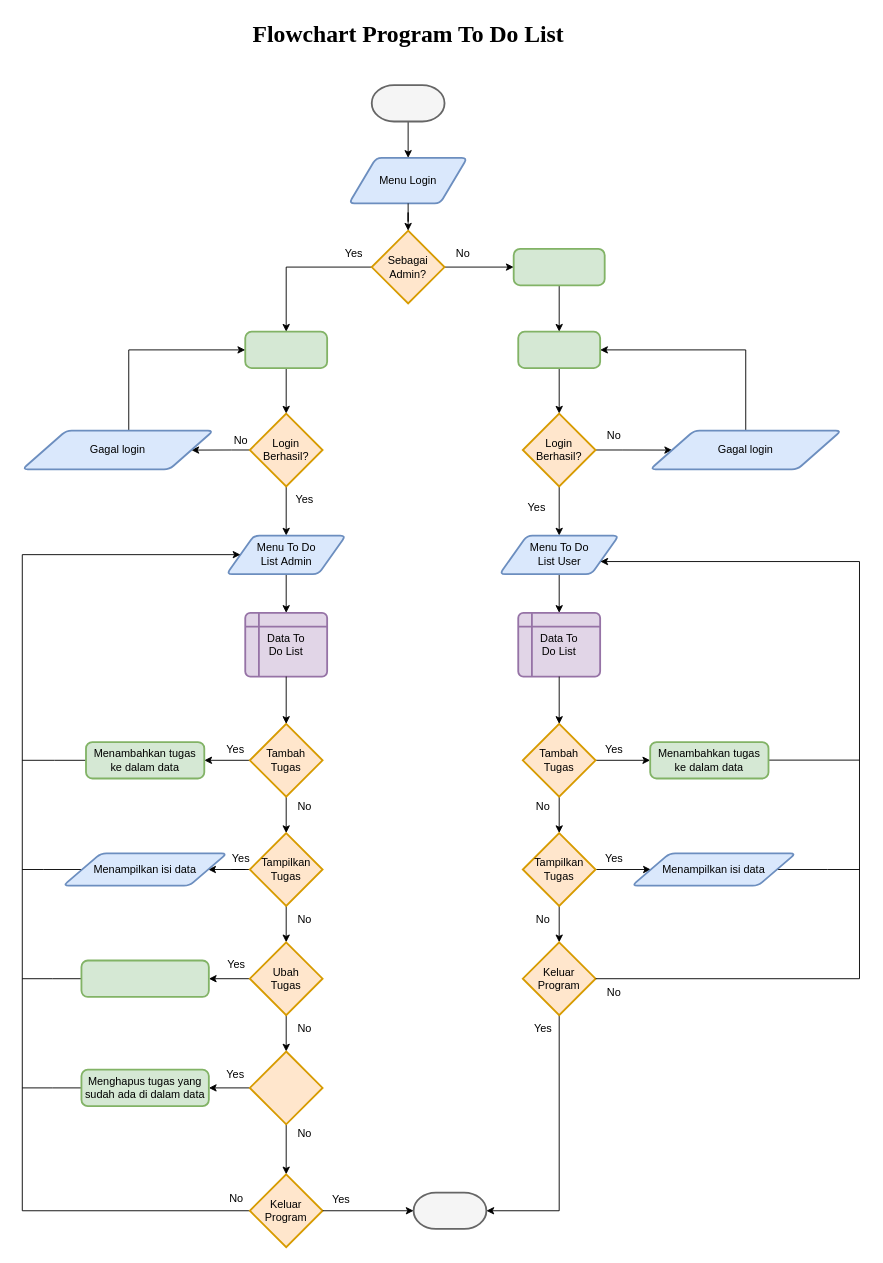
Some shapes in this 883 by 1263 pixel diagram are drawn without their labels. Each missing label, with the box of its shape:
End: (412, 1191, 487, 1229)
Hapus Tugas: (248, 1050, 323, 1125)
Input Login Admin: (244, 330, 328, 369)
Input Login user: (517, 330, 601, 369)
Mengubah tugas yang sudah ada di dalam data: (80, 959, 209, 997)
Registrasi user: (512, 248, 605, 286)
Start: (370, 84, 445, 122)
